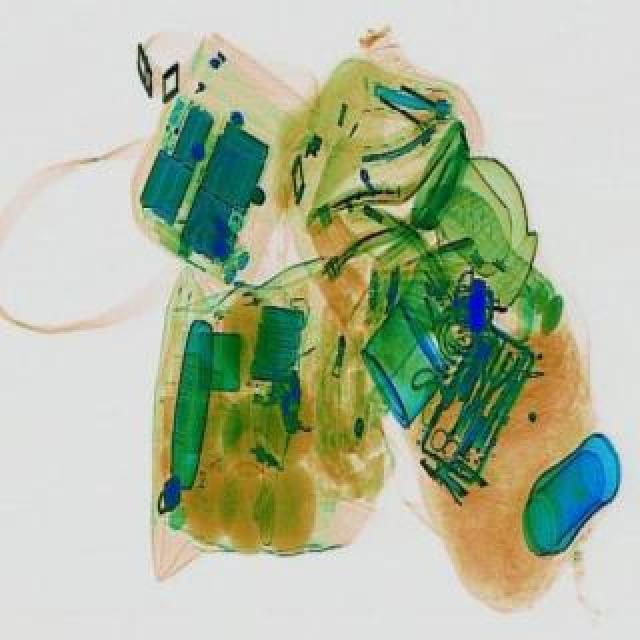pliers: (424, 392, 480, 456)
wrench: (454, 334, 526, 422)
